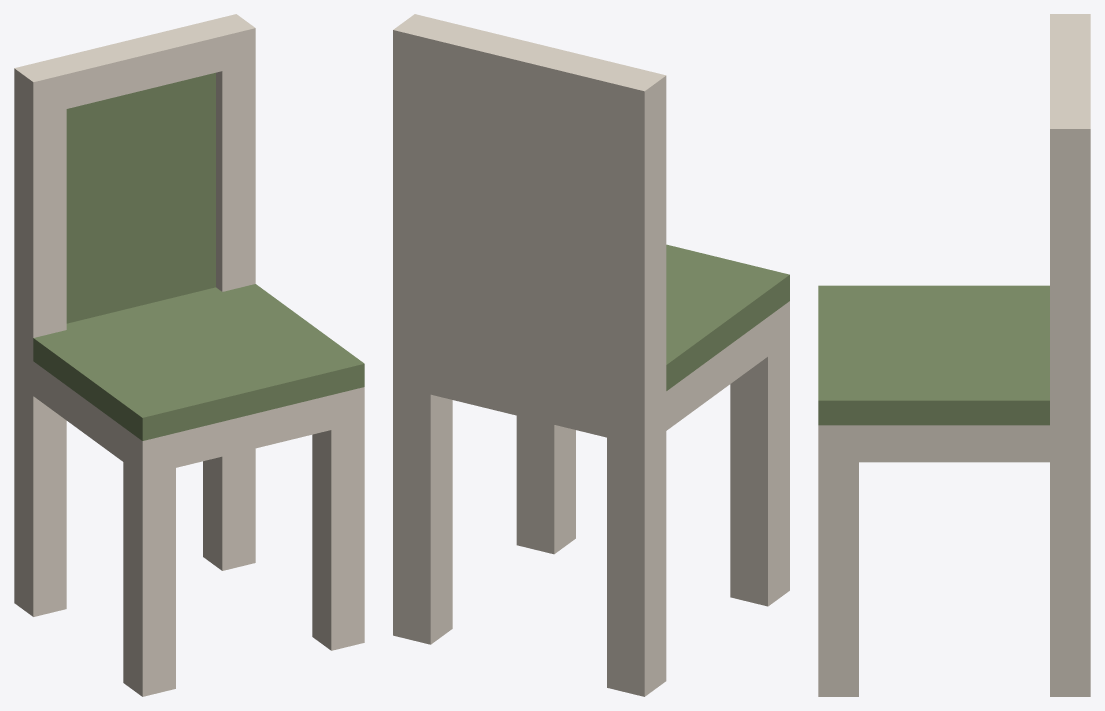
File: kitChairModernCushion.glb
The picture shows the model from 3 angles, left to right: view 1: azimuth 30°, elevation 25°; view 2: azimuth 150°, elevation 25°; view 3: azimuth 270°, elevation 25°; orthographic projection. The views are drawn at different scales.
Parts seen in each view (by area): view 1: kitChairModernCushion_metal, kitChairModernCushion_fabricAccent; view 2: kitChairModernCushion_metal, kitChairModernCushion_fabricAccent; view 3: kitChairModernCushion_metal, kitChairModernCushion_fabricAccent.
Boxes of the visible parts, x1=… form: kitChairModernCushion_metal: x1=14, y1=14, x2=364, y2=696; kitChairModernCushion_fabricAccent: x1=33, y1=72, x2=364, y2=440; kitChairModernCushion_metal: x1=393, y1=14, x2=789, y2=696; kitChairModernCushion_fabricAccent: x1=666, y1=244, x2=789, y2=390; kitChairModernCushion_metal: x1=818, y1=14, x2=1090, y2=696; kitChairModernCushion_fabricAccent: x1=818, y1=285, x2=1049, y2=425.
Bounding box in the file's own units: 0.4 × 0.92 × 0.4.
